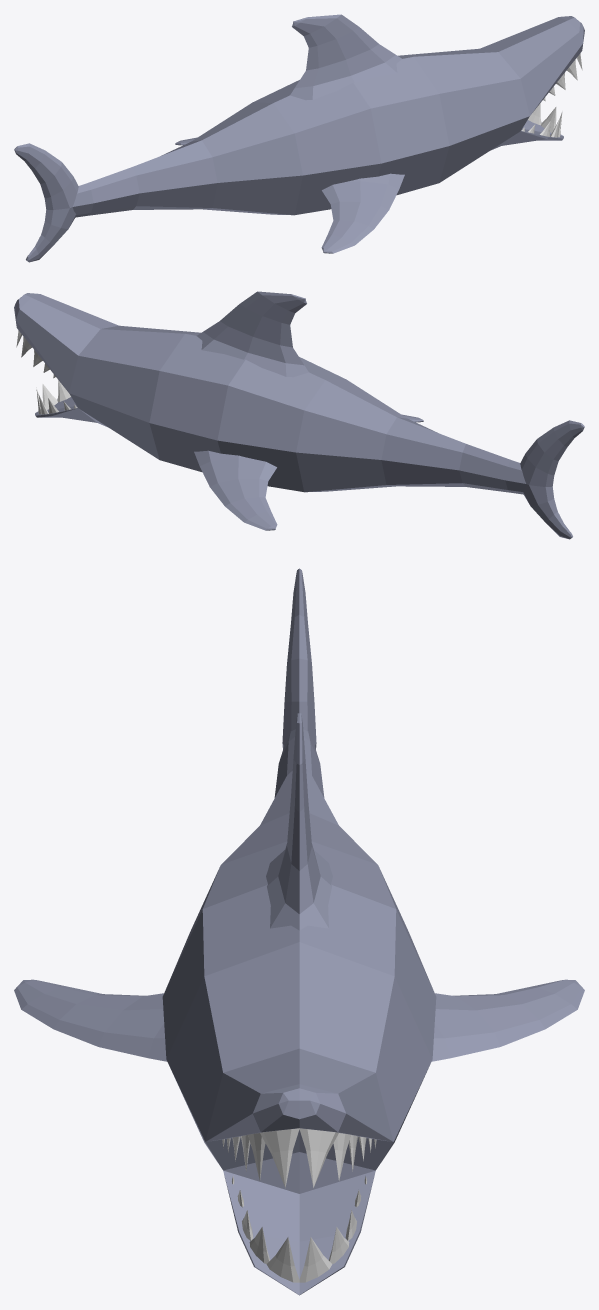
File: SharkBiting.fbx
3 views of the same model, one above another, from view 1: azimuth 30°, elevation 25°; view 2: azimuth 150°, elevation 25°; view 3: azimuth 270°, elevation 25° (orthographic). The views are drawn at different scales.
Visible parts, largest first — view 1: SharkBiting; view 2: SharkBiting; view 3: SharkBiting.
Part boxes in pixels (<box>): SharkBiting: <box>14,14,584,262</box>; SharkBiting: <box>14,291,584,539</box>; SharkBiting: <box>14,568,584,1295</box>.
Size of the model in its own units: 354 by 116 by 166.
